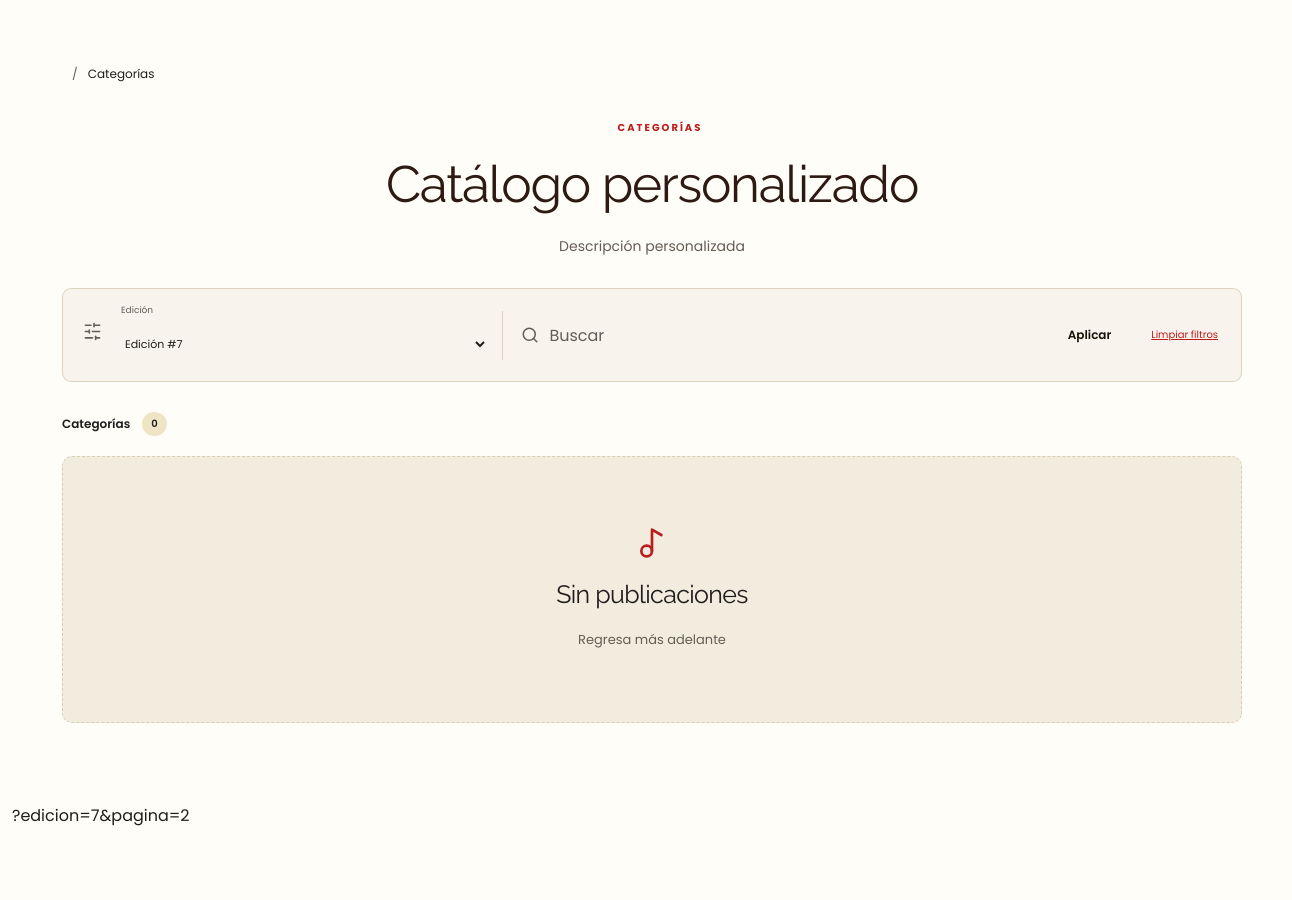
permite quitar el filtro de edición recibido por URL en categorías
The width and height of the screenshot is (1292, 900).
Expected: the dropdown labelled "Edición" shows "Edición #7", 121,322 -> 488,366
Step 1. Click the button "Limpiar filtros" → [1185, 335], box 1143,319 -> 1226,351
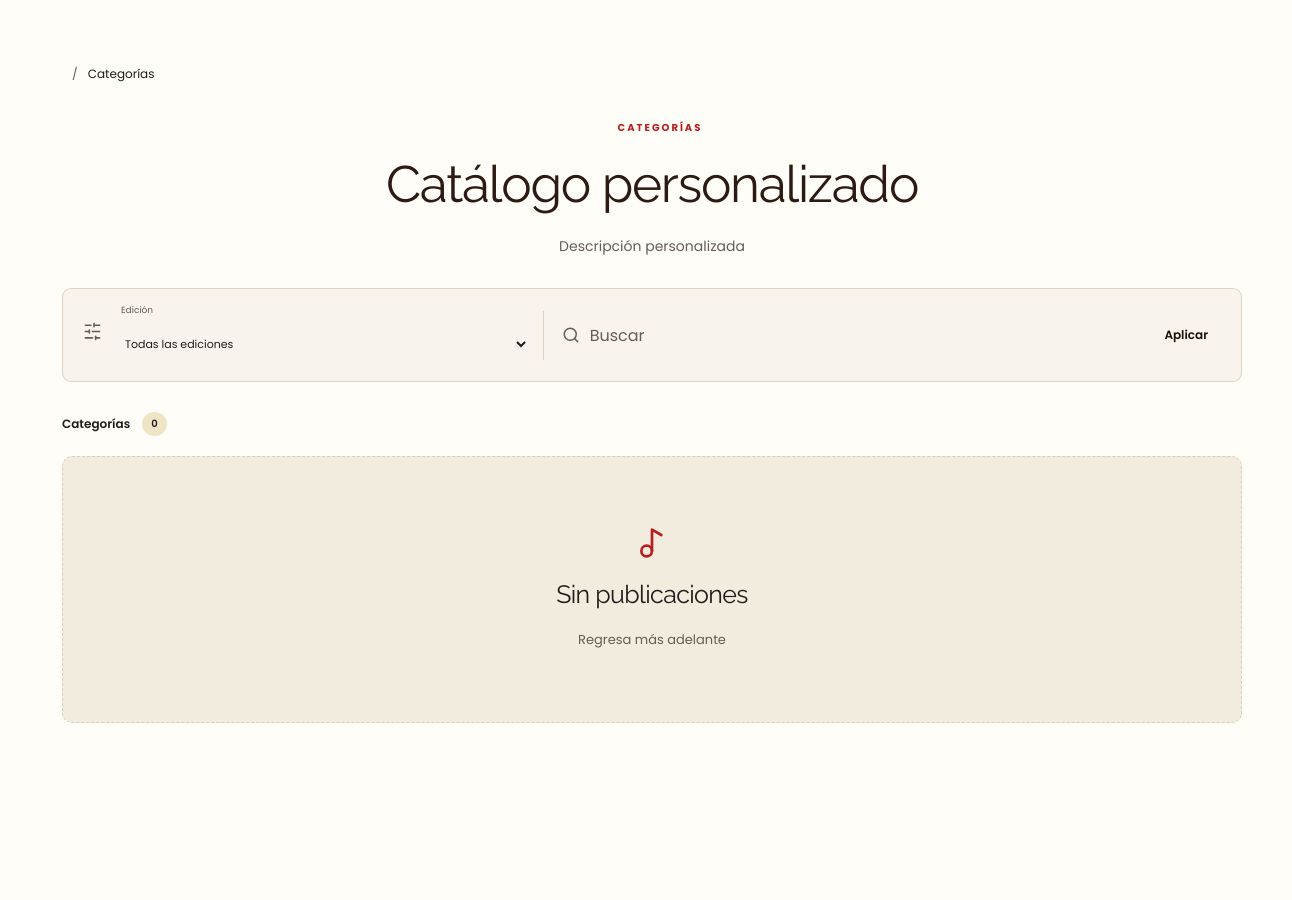
Expected: the dropdown labelled "Edición" shows "Todas las ediciones", 121,322 -> 529,366
